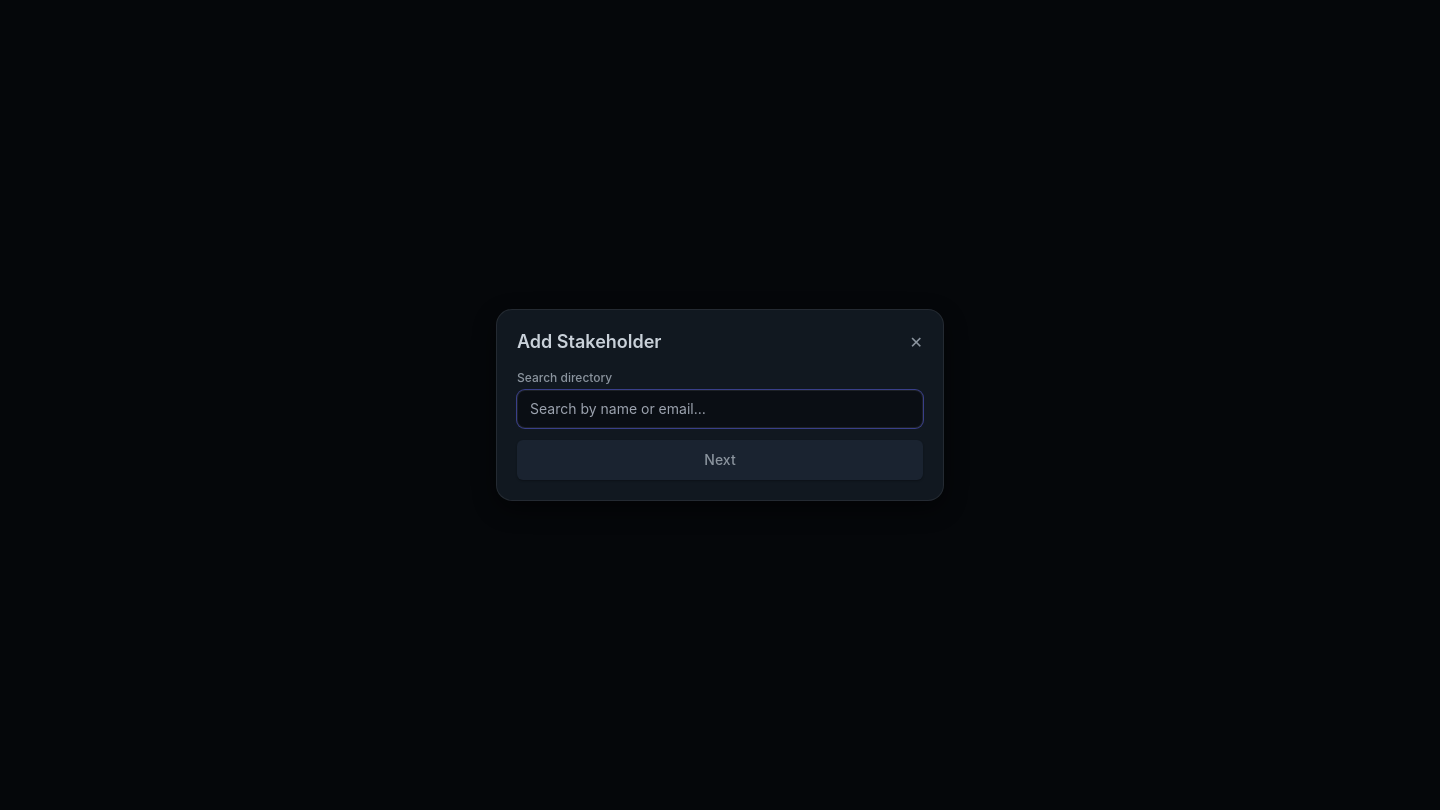
Scenario: StakeholderPicker › proceeds to role selection after selecting user
Type "Sarah" into the field with test id "stakeholder-search-input" at (720, 409), box [517,390,923,428]
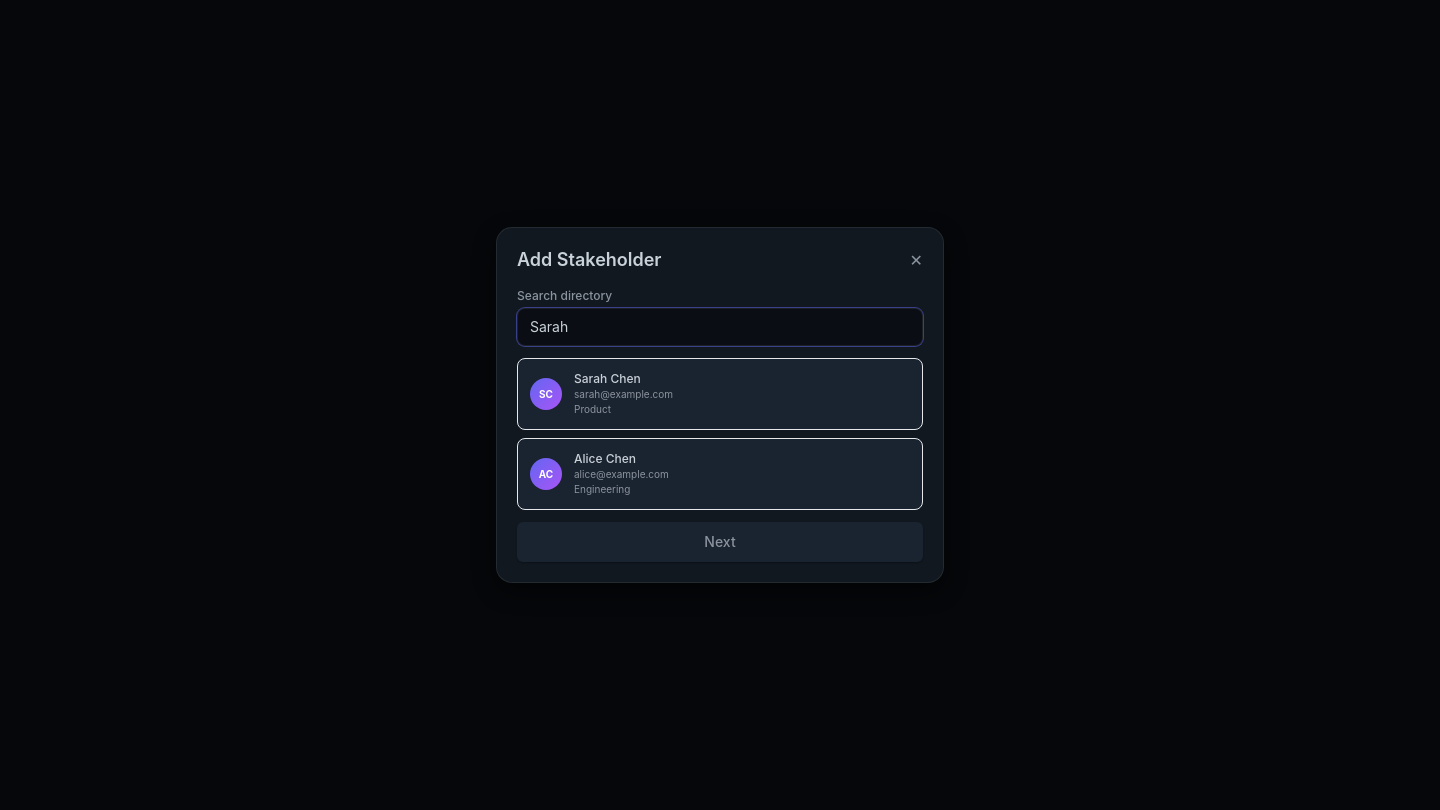
Expected: the button with test id "user-result" is shown
Click the button with test id "user-result" at (546, 394), box [517,358,923,430]
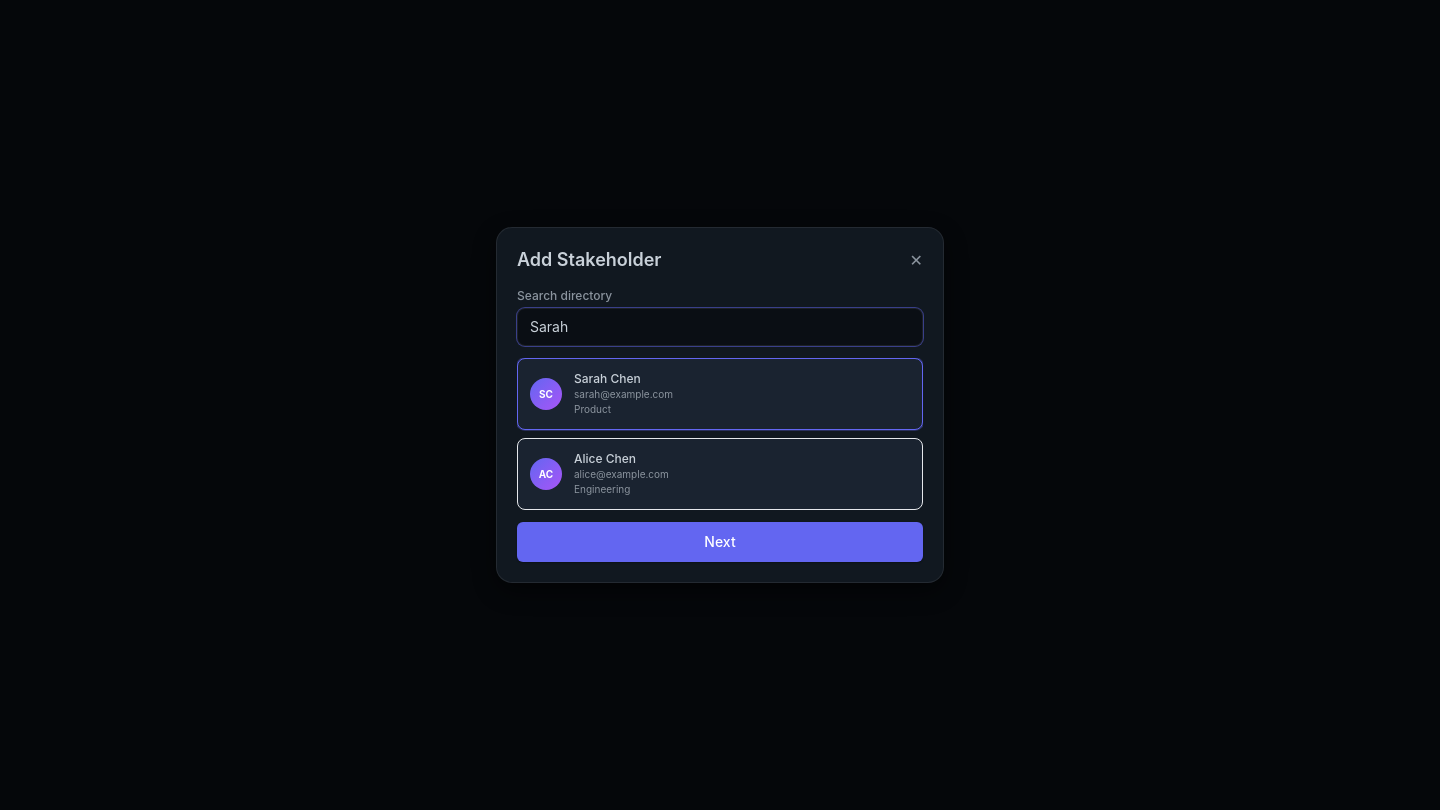
Click the button with test id "next-btn" at (720, 542), box [517,522,923,562]
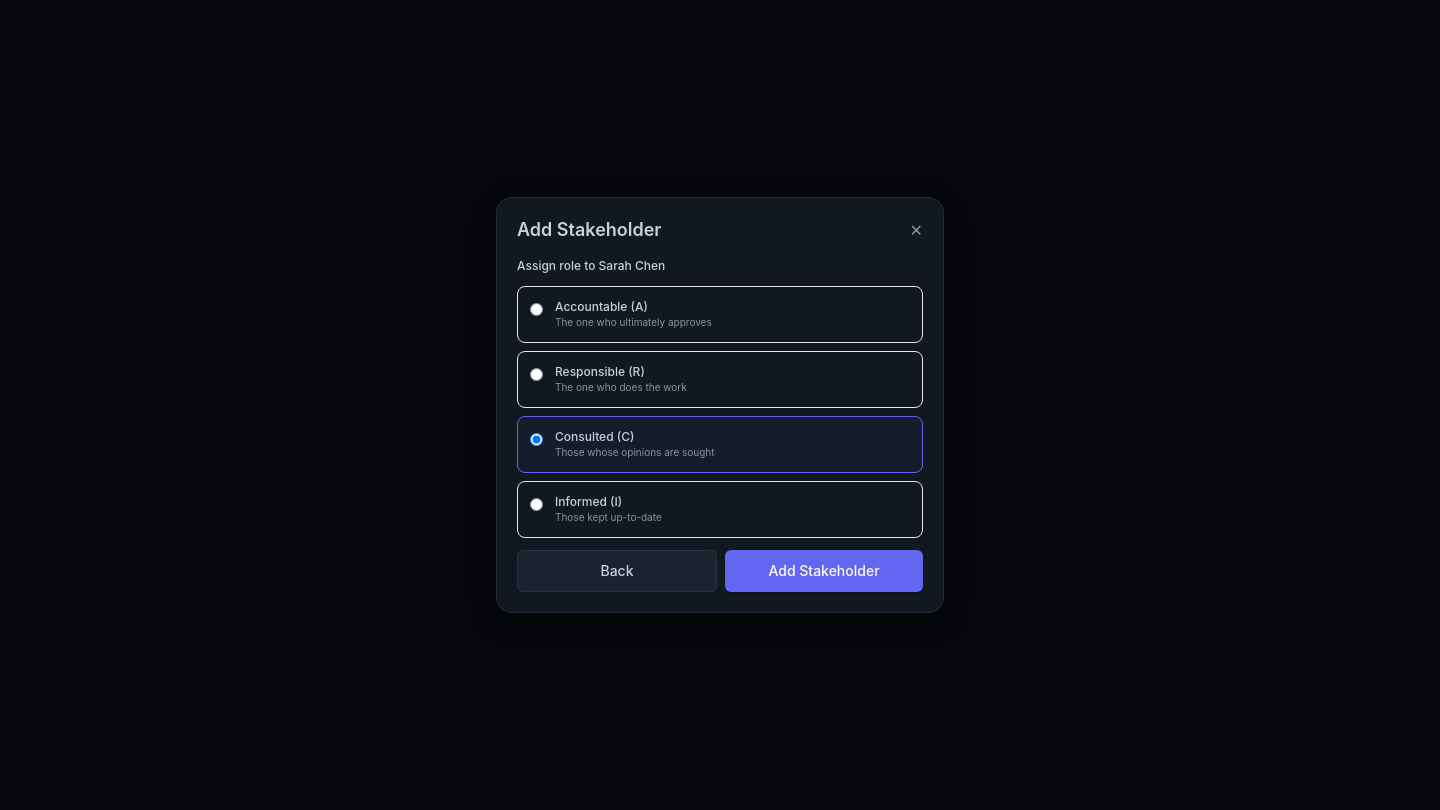
Expected: the radio button with test id "role-accountable" is shown, [530,303,543,316]
Expected: the radio button with test id "role-responsible" is shown, [530,368,543,381]
